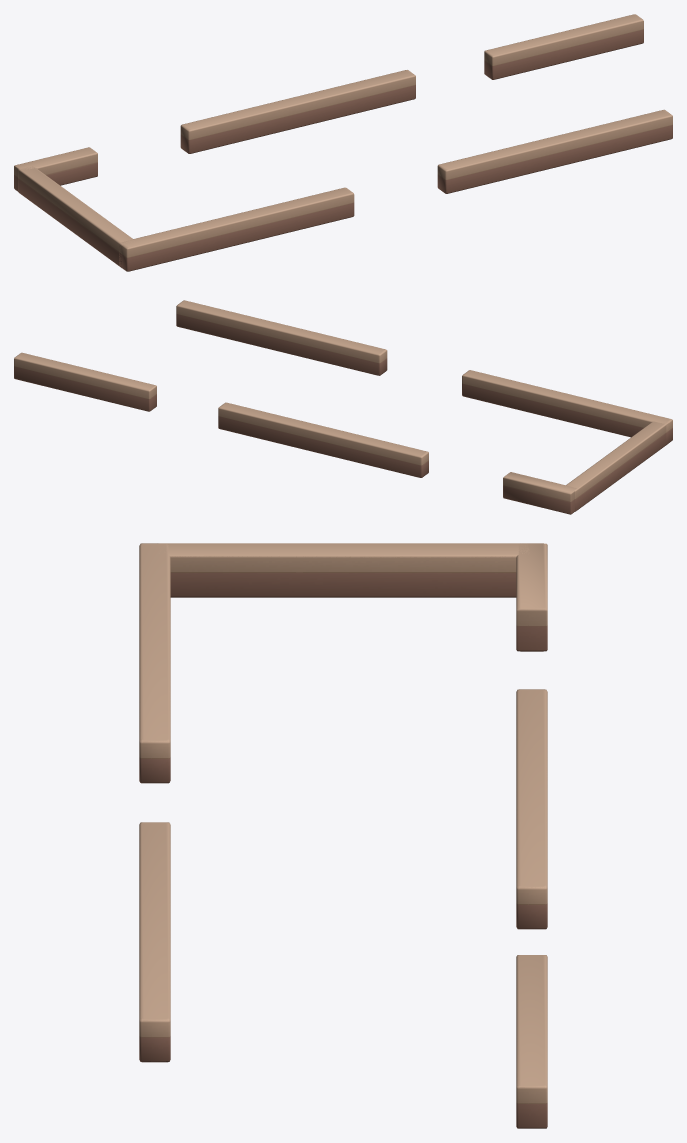
Rendered from Props.fbx.
3 views of the same model, one above another, from view 1: azimuth 30°, elevation 25°; view 2: azimuth 150°, elevation 25°; view 3: azimuth 270°, elevation 25° (orthographic). The views are drawn at different scales.
Visible parts, largest first — view 1: Box20-3_1 (3), Box20-3_1 (6), Box20-3_1 (5), Box20-3_1 (7), Box20-3_1 (9), Box20-3_1 (8); view 2: Box20-3_1 (3), Box20-3_1 (6), Box20-3_1 (5), Box20-3_1 (7), Box20-3_1 (9), Box20-3_1 (8); view 3: Box20-3_1 (9), Box20-3_1 (6), Box20-3_1 (3), Box20-3_1 (5), Box20-3_1 (7), Box20-3_1 (8).
Boxes of the visible parts, box(x1,y1,x2,y2) form: Box20-3_1 (3): box(437, 109, 672, 193); Box20-3_1 (6): box(180, 70, 415, 153); Box20-3_1 (5): box(119, 187, 354, 271); Box20-3_1 (7): box(484, 14, 643, 79); Box20-3_1 (9): box(18, 166, 134, 267); Box20-3_1 (8): box(14, 147, 97, 191); Box20-3_1 (3): box(176, 300, 387, 375); Box20-3_1 (6): box(218, 402, 428, 477); Box20-3_1 (5): box(462, 370, 672, 444); Box20-3_1 (7): box(14, 352, 156, 411); Box20-3_1 (9): box(564, 421, 668, 511); Box20-3_1 (8): box(503, 472, 576, 514); Box20-3_1 (9): box(157, 543, 528, 597); Box20-3_1 (6): box(516, 689, 547, 929); Box20-3_1 (3): box(139, 822, 170, 1062); Box20-3_1 (5): box(139, 543, 170, 783); Box20-3_1 (7): box(516, 955, 547, 1128); Box20-3_1 (8): box(516, 543, 547, 651).
Size of the model in its own units: 41 by 1.5 by 13.
